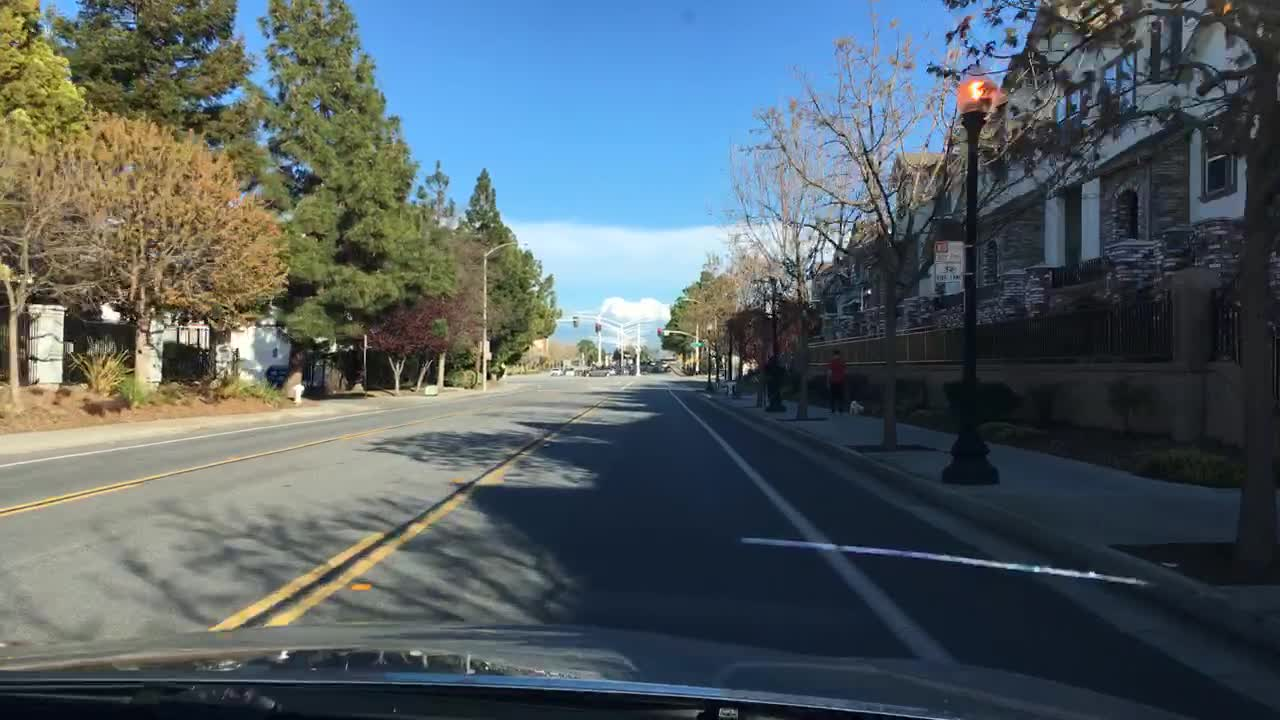car: (582, 365, 615, 374), (652, 362, 669, 373), (616, 364, 630, 375), (548, 366, 562, 376), (563, 366, 574, 376)
person: (823, 345, 847, 411)
traffic light: (572, 315, 579, 327), (656, 324, 661, 334)
traffic sign: (688, 339, 703, 348)
